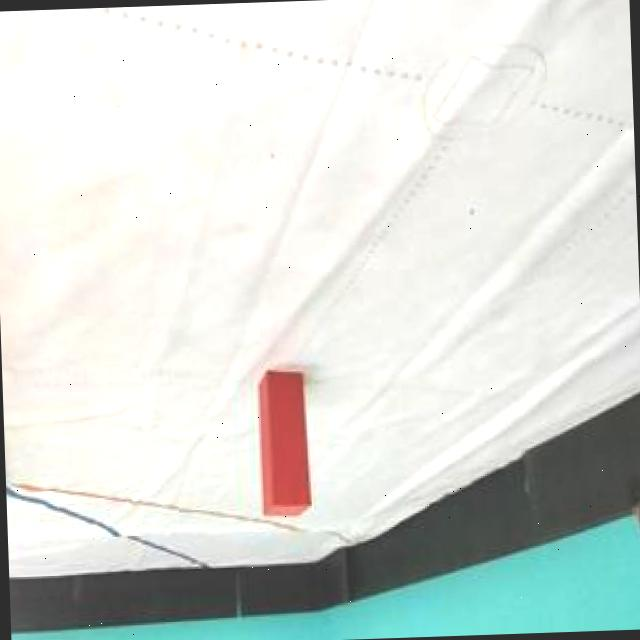redbox: (261, 370, 310, 519)
